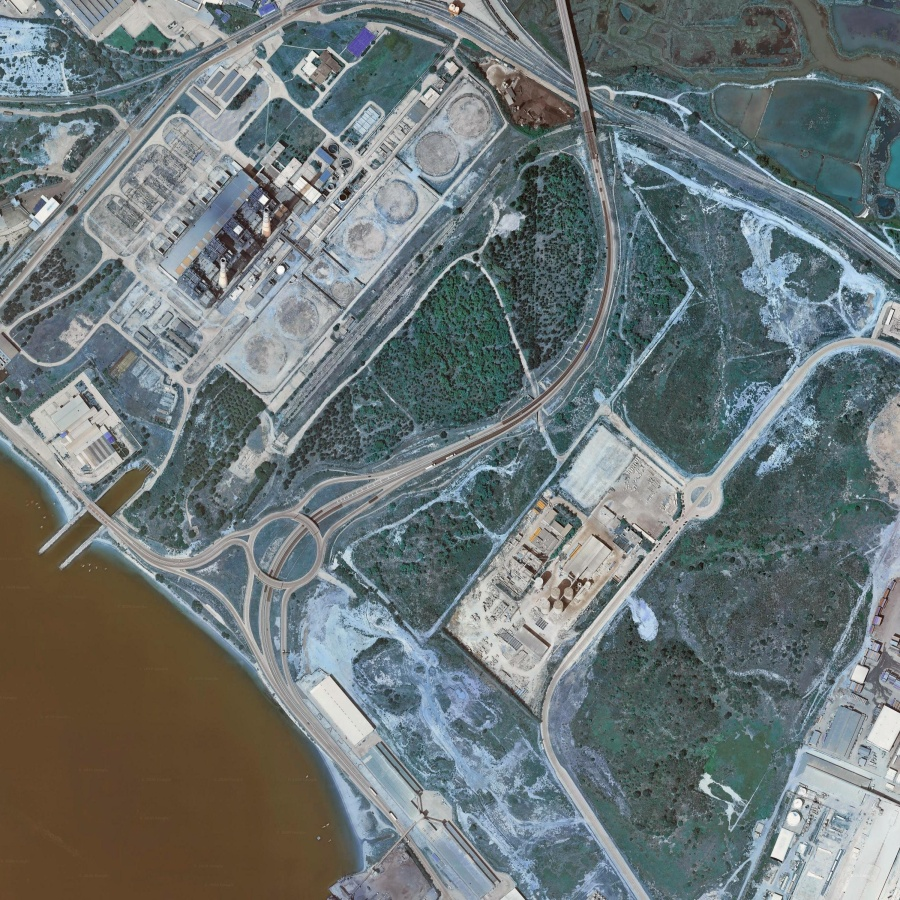PowerPlant: (119, 40, 494, 381)
